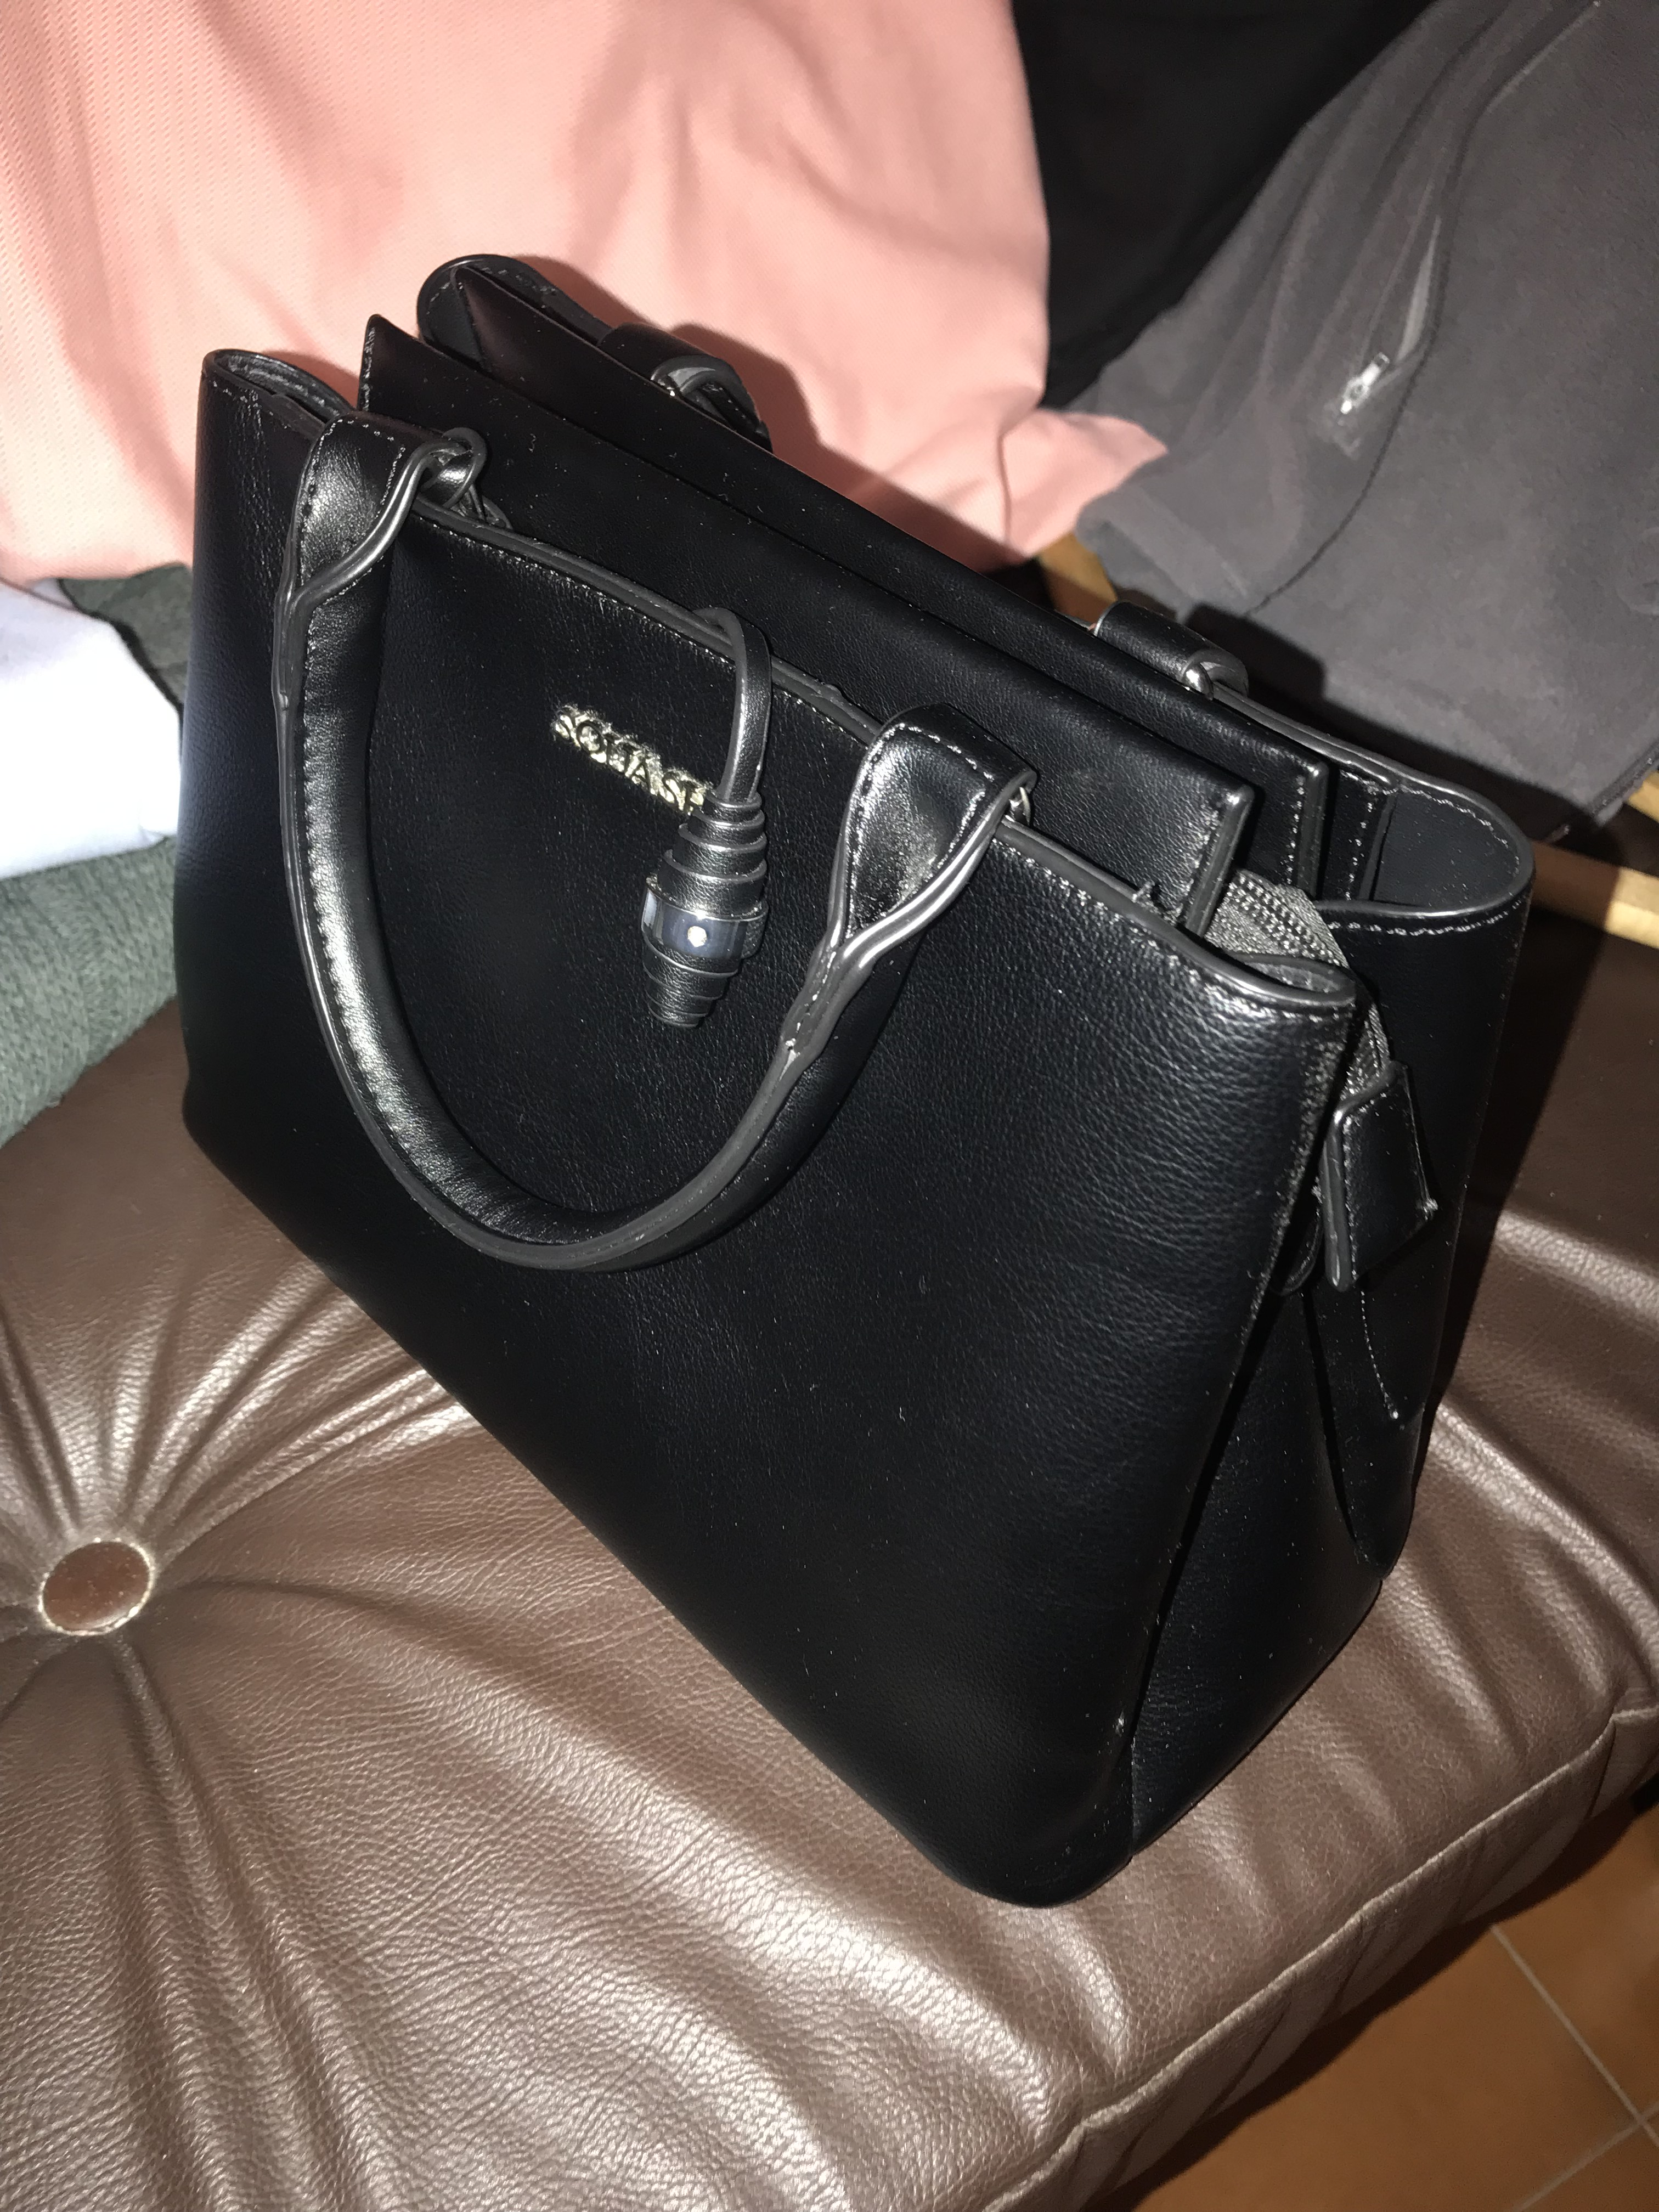cartera: (153, 225, 1547, 1930)
cuero: (1046, 1033, 1258, 1280)
